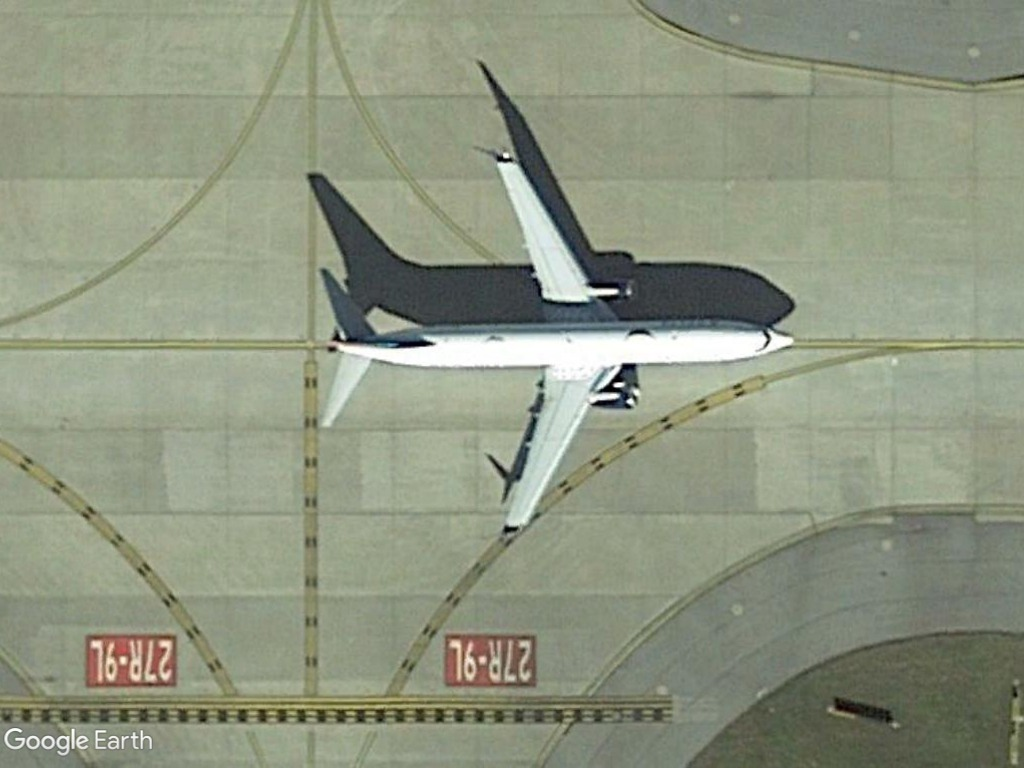airliner: (309, 144, 800, 554)
